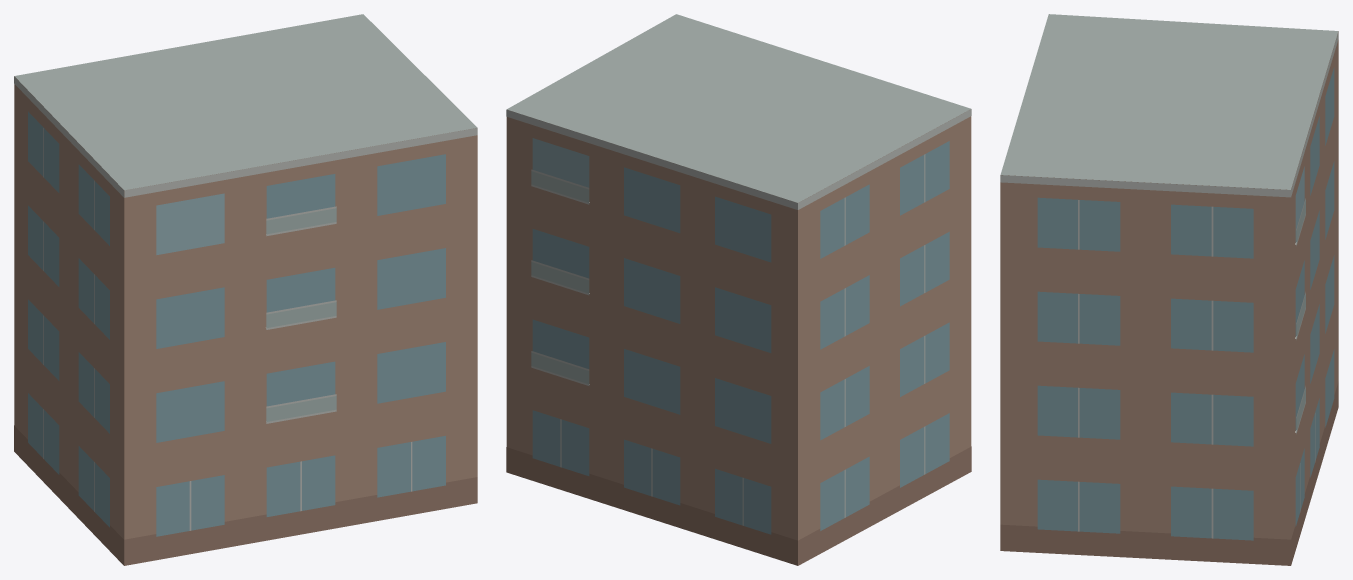
File: survey-upis-32880322.glb
3 renders of one model, left to right at view 1: azimuth 30°, elevation 25°; view 2: azimuth 150°, elevation 25°; view 3: azimuth 270°, elevation 25°, orthographic. The views are drawn at different scales.
Parts seen in each view (by area): view 1: survey-upis-32880322.tmp; view 2: survey-upis-32880322.tmp; view 3: survey-upis-32880322.tmp.
Boxes of the visible parts, x1=… form: survey-upis-32880322.tmp: x1=14, y1=14, x2=477, y2=565; survey-upis-32880322.tmp: x1=506, y1=14, x2=971, y2=565; survey-upis-32880322.tmp: x1=1000, y1=14, x2=1338, y2=565.
Size of the model in its own units: 12.36 by 12.3 by 10.04.
